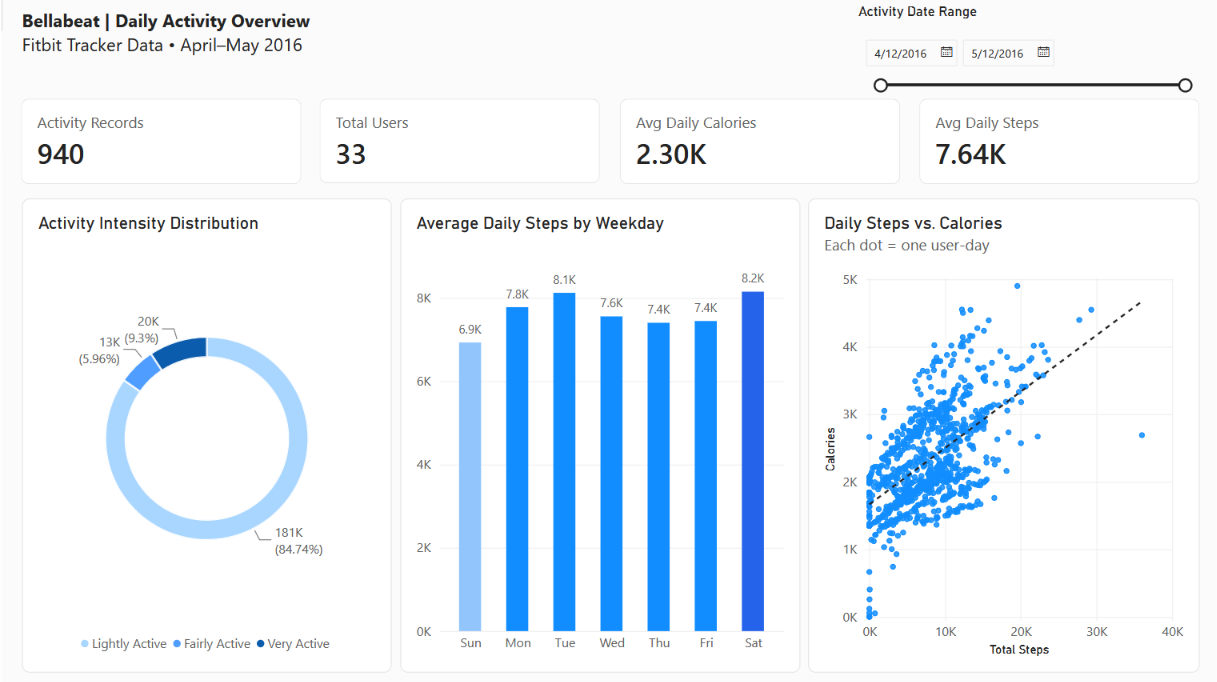

Layout of this report page (visuals, bound fields, positions):
{"tool":"powerbi","page":{"name":"Daily Activity Overview","canvas":[1280,720],"ordinal":0},"visuals":[{"type":"cardVisual","fields":{"Data":["daily_activity_cleaned.Total Users"]},"box":[334.2,90.5,294.4,89.3],"z":0},{"type":"cardVisual","fields":{"Data":["daily_activity_cleaned.Avg Daily Steps"]},"box":[965,90,295,90],"z":1000},{"type":"cardVisual","fields":{"Data":["daily_activity_cleaned.Avg Daily Calories"]},"box":[650,90,295,90],"z":2000},{"type":"cardVisual","fields":{"Data":["CountNonNull(daily_activity_cleaned.Activity Records)"]},"box":[20,90,295,90],"z":3000},{"type":"donutChart","title":"Activity Intensity Distribution","fields":{"Y":["Sum(daily_activity_cleaned.LightlyActiveMinutes)","Sum(daily_activity_cleaned.FairlyActiveMinutes)","Sum(daily_activity_cleaned.VeryActiveMinutes)"]},"box":[20.5,200.3,389.7,499.5],"z":4000},{"type":"clusteredColumnChart","title":"Average Daily Steps by Weekday","fields":{"Category":["daily_activity_cleaned.DayOfWeek"],"Y":["daily_activity_cleaned.Avg Daily Steps"]},"box":[418.6,200.3,421,499.5],"z":5000},{"type":"scatterChart","title":"Daily Steps vs. Calories","fields":{"Category":["daily_activity_cleaned.ActivityPoint"],"X":["Sum(daily_activity_cleaned.TotalSteps)"],"Y":["Sum(daily_activity_cleaned.Calories)"]},"box":[848.1,200.3,411.4,499.5],"z":5001},{"type":"textbox","box":[1460,629,459,451],"z":5003},{"type":"textbox","box":[20.6,9.6,314.2,70],"z":5005},{"type":"slicer","fields":{"Values":["daily_activity_cleaned.ActivityDate"]},"box":[900,9.7,359.5,82],"z":5006}]}

Visuals, with their boxes in screenshot pixels (x1, y1, x2, y2), scaled from the page's 1280x720 canvas onto the 1217x682 screenshot:
cardVisual - daily_activity_cleaned.Total Users: locate(318, 86, 598, 170)
cardVisual - daily_activity_cleaned.Avg Daily Steps: locate(918, 85, 1198, 170)
cardVisual - daily_activity_cleaned.Avg Daily Calories: locate(618, 85, 898, 170)
cardVisual - CountNonNull(daily_activity_cleaned.Activity Records): locate(19, 85, 299, 170)
"Activity Intensity Distribution" donutChart: locate(19, 190, 390, 663)
"Average Daily Steps by Weekday" clusteredColumnChart: locate(398, 190, 798, 663)
"Daily Steps vs. Calories" scatterChart: locate(806, 190, 1198, 663)
textbox: locate(20, 9, 318, 75)
slicer - daily_activity_cleaned.ActivityDate: locate(856, 9, 1198, 87)
